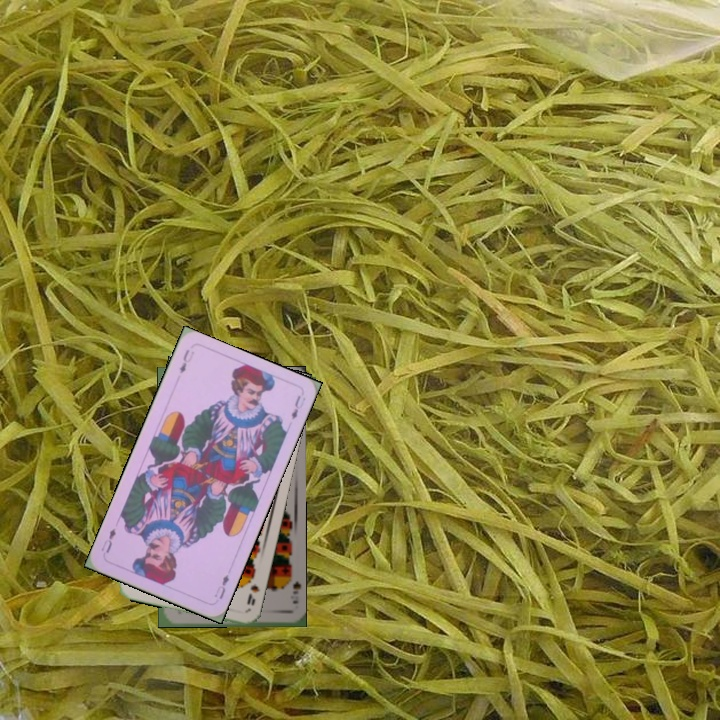EU: (210, 570, 232, 602), (175, 345, 197, 376)
S9: (243, 570, 262, 608), (282, 570, 302, 606)
